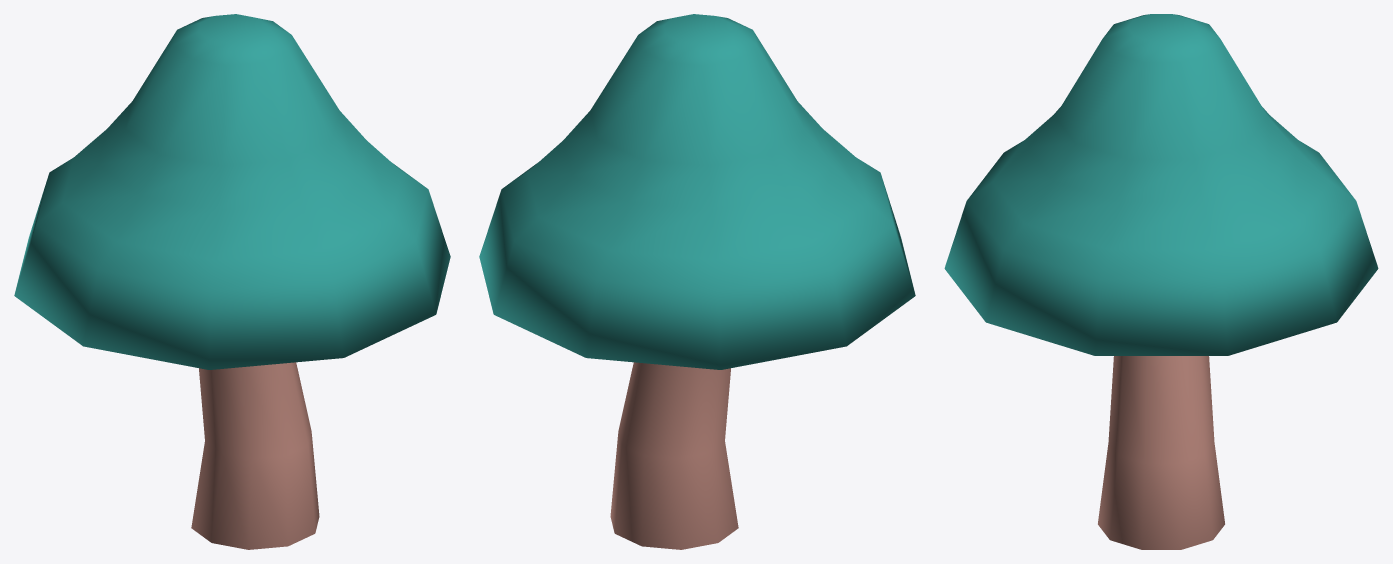
The model's file is Mushroom_Turquoise_Cone_1.fbx.
3 views of the same model, side by side, from view 1: azimuth 30°, elevation 25°; view 2: azimuth 150°, elevation 25°; view 3: azimuth 270°, elevation 25° (orthographic). The views are drawn at different scales.
Parts seen in each view (by area): view 1: Cylinder.573, Cylinder.572; view 2: Cylinder.573, Cylinder.572; view 3: Cylinder.573, Cylinder.572.
Part boxes in pixels (box(x1,y1,x2,y2)): Cylinder.573: box(14, 14, 450, 369); Cylinder.572: box(191, 362, 319, 549); Cylinder.573: box(479, 14, 915, 369); Cylinder.572: box(610, 362, 738, 549); Cylinder.573: box(944, 14, 1378, 355); Cylinder.572: box(1098, 356, 1224, 549).
Bounding box in the file's own units: 72.61 × 94.29 × 76.34.
